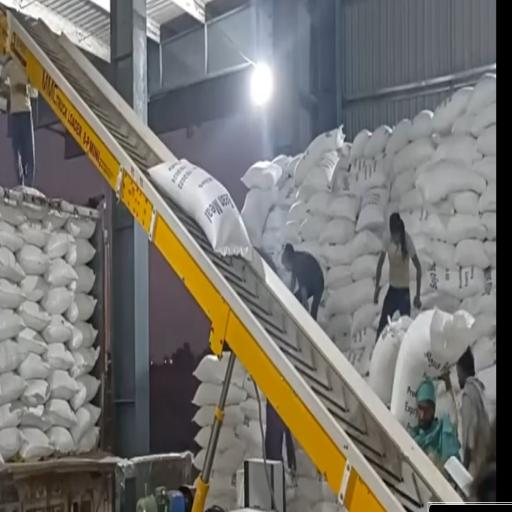Rice-bag-10: (390, 308, 474, 433), (149, 159, 251, 257), (368, 317, 412, 404)
